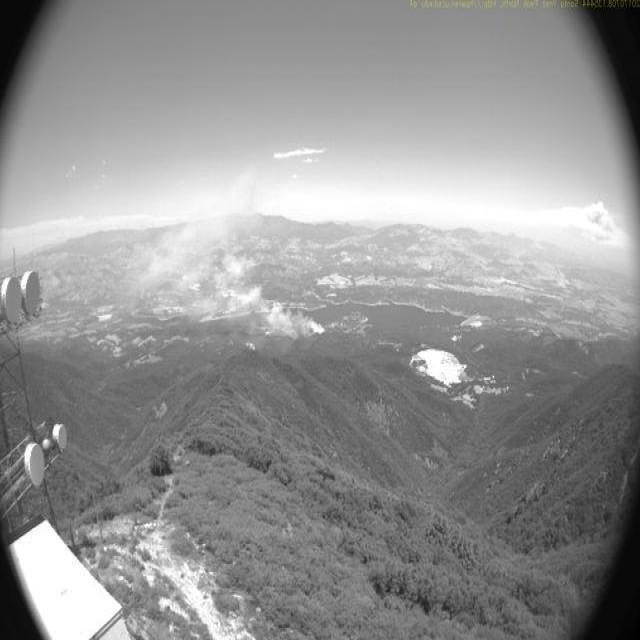Smoke: (120, 161, 328, 344)
